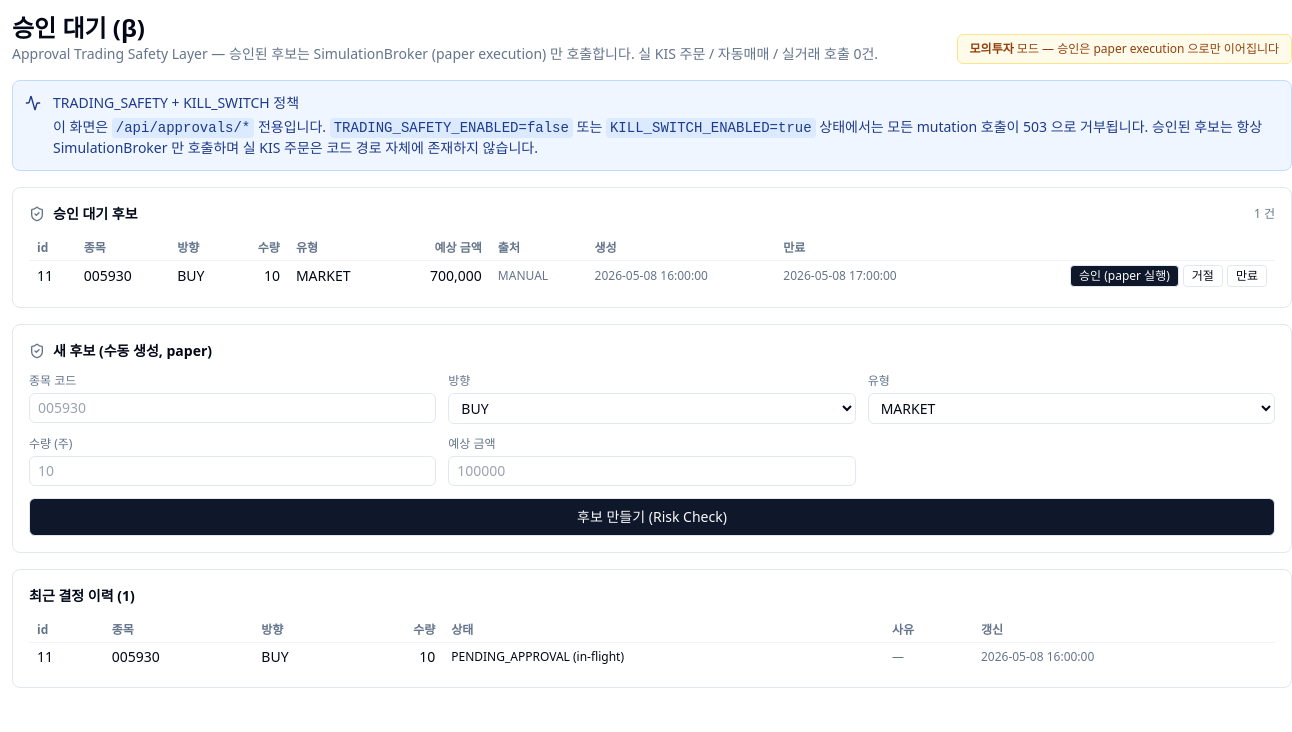
Scenario: ApprovalsPage › shows the kill switch banner when 503 detail mentions kill switch
Click the button with test id "approvals-approve-11". click: click(1124, 276)
box: [1070,265,1179,287]
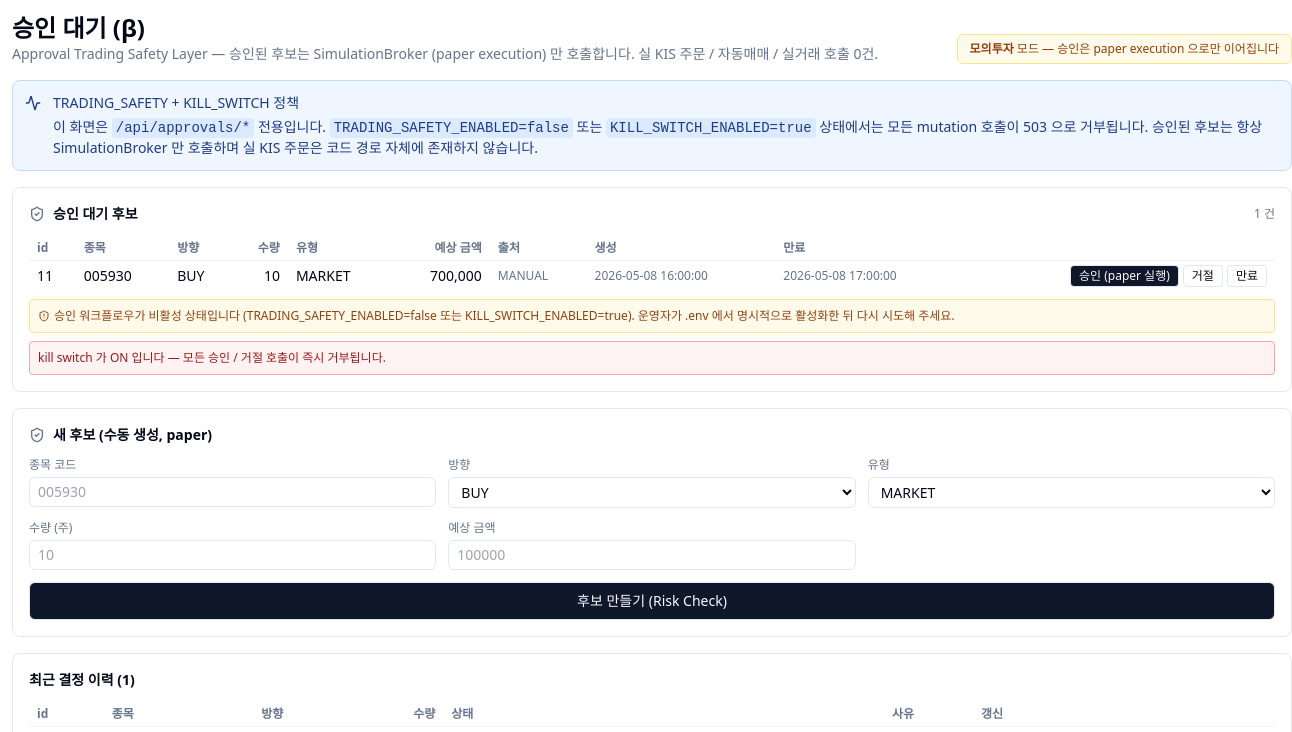
Now the text "kill switch 가 ON 입니다 — 모든 승인 / 거절 호출이 즉시 거부됩니다." is shown, box [29,341,1275,375]
